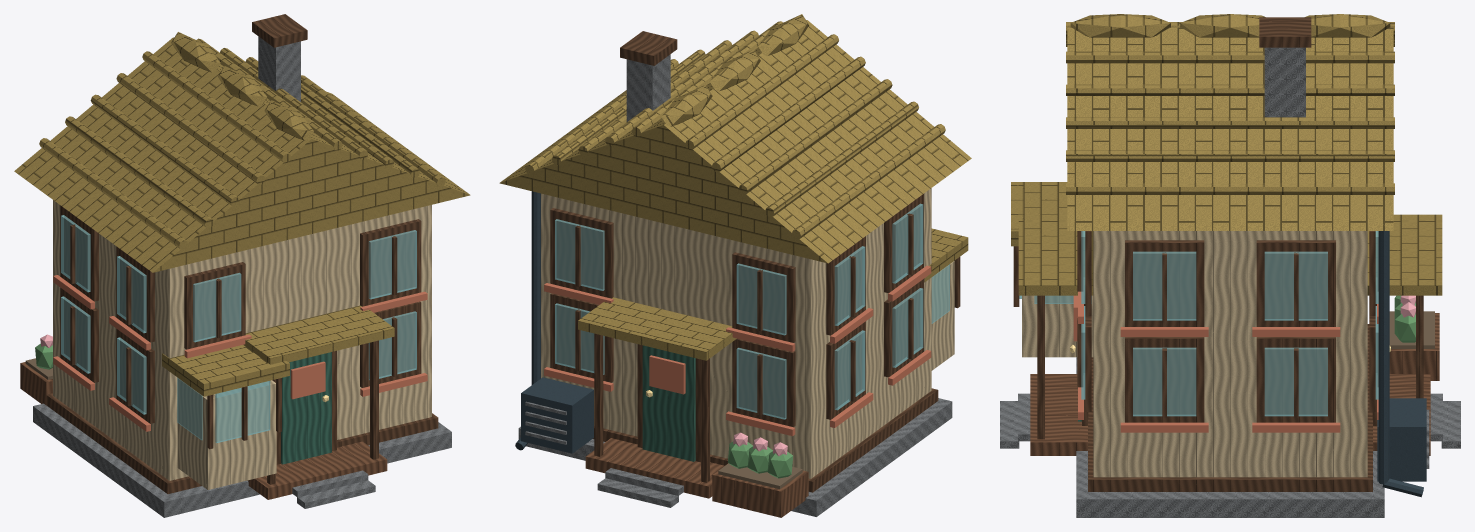
Rendered from house_cottage_lv2_bay.glb.
3 views of the same model, side by side, from view 1: azimuth 30°, elevation 25°; view 2: azimuth 150°, elevation 25°; view 3: azimuth 270°, elevation 25° (orthographic). The views are drawn at different scales.
Visible parts, largest first — view 1: gable_roof, walls, bay_base, foundation, front_porch_canopy, front_window_frame.003, front_window_frame.002, front_door, bay_cap, front_deck, floor_trim, front_window_frame.001 (+37 smaller); view 2: gable_roof, walls, back_porch_canopy, foundation, back_door, back_window_frame.003, back_window_frame.002, back_window_frame, back_ac_unit, back_deck, back_window_frame.001, back_window_glass (+44 smaller); view 3: gable_roof, walls, foundation, right_window_frame.002, right_window_frame.003, right_window_frame, right_window_frame.001, floor_trim, front_porch_canopy, back_porch_canopy, right_window_glass.002, right_window_glass.003 (+35 smaller).
Boxes of the visible parts, left/top/right/bottom form: gable_roof: left=14, top=37, right=470, bottom=272; walls: left=53, top=200, right=431, bottom=480; bay_base: left=177, top=378, right=276, bottom=489; foundation: left=33, top=403, right=451, bottom=517; front_porch_canopy: left=243, top=305, right=394, bottom=364; front_window_frame.003: left=360, top=219, right=421, bottom=306; front_window_frame.002: left=184, top=262, right=245, bottom=349; front_door: left=281, top=352, right=331, bottom=464; bay_cap: left=162, top=345, right=289, bottom=396; front_deck: left=247, top=441, right=387, bottom=499; floor_trim: left=46, top=393, right=438, bottom=493; front_window_frame.001: left=360, top=301, right=421, bottom=387; gable_roof: left=499, top=20, right=971, bottom=263; walls: left=541, top=188, right=931, bottom=478; back_porch_canopy: left=578, top=297, right=736, bottom=360; foundation: left=518, top=398, right=952, bottom=516; back_door: left=642, top=345, right=695, bottom=461; back_window_frame.003: left=550, top=208, right=613, bottom=298; back_window_frame.002: left=732, top=252, right=795, bottom=342; back_window_frame: left=732, top=338, right=795, bottom=427; back_ac_unit: left=521, top=377, right=593, bottom=453; back_deck: left=585, top=438, right=724, bottom=498; back_window_frame.001: left=550, top=293, right=613, bottom=382; back_window_glass: left=736, top=347, right=786, bottom=419; gable_roof: left=1067, top=27, right=1393, bottom=230; walls: left=1093, top=231, right=1367, bottom=477; foundation: left=1076, top=357, right=1384, bottom=517; right_window_frame.002: left=1125, top=240, right=1204, bottom=326; right_window_frame.003: left=1256, top=240, right=1335, bottom=326; right_window_frame: left=1125, top=337, right=1204, bottom=422; right_window_frame.001: left=1256, top=337, right=1335, bottom=422; floor_trim: left=1088, top=324, right=1372, bottom=491; front_porch_canopy: left=1018, top=214, right=1093, bottom=295; back_porch_canopy: left=1367, top=214, right=1442, bottom=295; right_window_glass.002: left=1133, top=251, right=1196, bottom=320; right_window_glass.003: left=1264, top=251, right=1327, bottom=320.
Bounding box in the file's own units: 3.15 × 3.56 × 3.36.
Materials: 13 (7 with a texture image).
